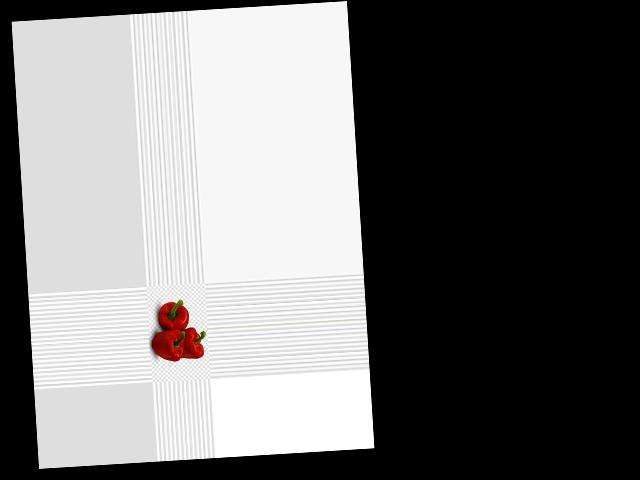bell_pepper: (154, 297, 193, 335)
